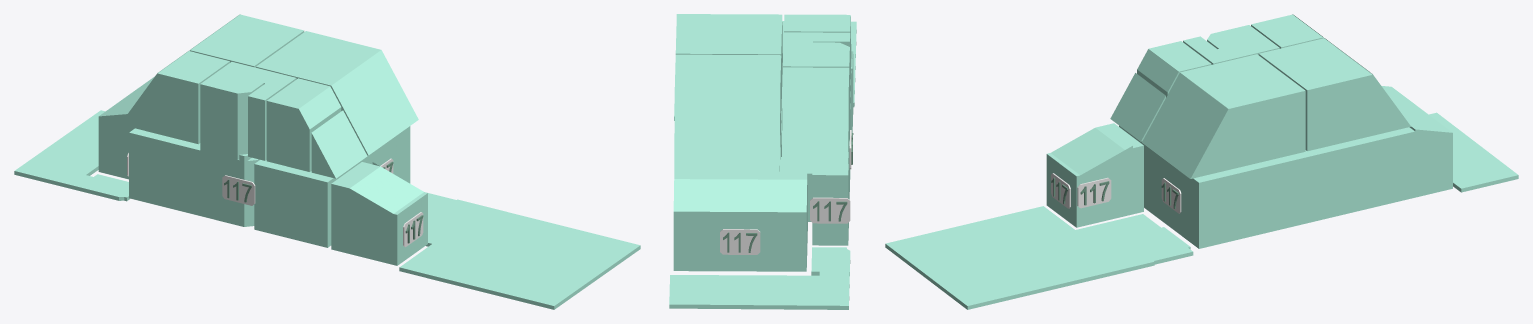
3 views of the same model, side by side, from view 1: azimuth 30°, elevation 25°; view 2: azimuth 150°, elevation 25°; view 3: azimuth 270°, elevation 25° (orthographic). The views are drawn at different scales.
Parts seen in each view (by area): view 1: g_14, g_7, g_5, g_0, g_9, g_4, g_6, g_13, g_11, g_2, g_8, g_12 (+3 smaller); view 2: g_8, g_1, g_13, g_9, g_7, g_4, g_10, g_6, g_22, g_34, g_11, g_14 (+2 smaller); view 3: g_14, g_7, g_1, g_8, g_0, g_5, g_13, g_6, g_12, g_10, g_9, g_11 (+1 smaller).
Part boxes in pixels (x1,y1,x2,y2): g_14: (399,193,640,309); g_7: (256,31,418,155); g_5: (331,162,427,265); g_0: (254,126,410,247); g_9: (120,51,229,144); g_4: (129,128,200,215); g_6: (266,78,341,171); g_13: (14,110,129,201); g_11: (200,75,263,154); g_2: (198,145,259,226); g_8: (189,14,304,67); g_12: (311,110,367,178); g_8: (674,54,781,173); g_1: (673,109,807,271); g_13: (669,247,850,309); g_9: (782,67,849,173); g_7: (675,14,782,110); g_4: (808,140,849,245); g_10: (783,32,850,102); g_6: (784,14,850,90); g_22: (810,197,850,223); g_34: (720,229,760,254); g_11: (812,42,849,127); g_14: (674,21,856,120); g_14: (885,206,1193,309); g_7: (1142,54,1305,178); g_1: (1269,86,1452,230); g_8: (1258,38,1410,151); g_0: (1119,125,1274,248); g_5: (1046,123,1143,227); g_13: (1429,112,1518,192); g_6: (1137,41,1211,97); g_12: (1110,73,1165,141); g_10: (1183,34,1279,64); g_9: (1251,14,1323,48); g_11: (1207,25,1260,48).
Bounding box in the file's own units: 16.15 × 5.36 × 22.33.
